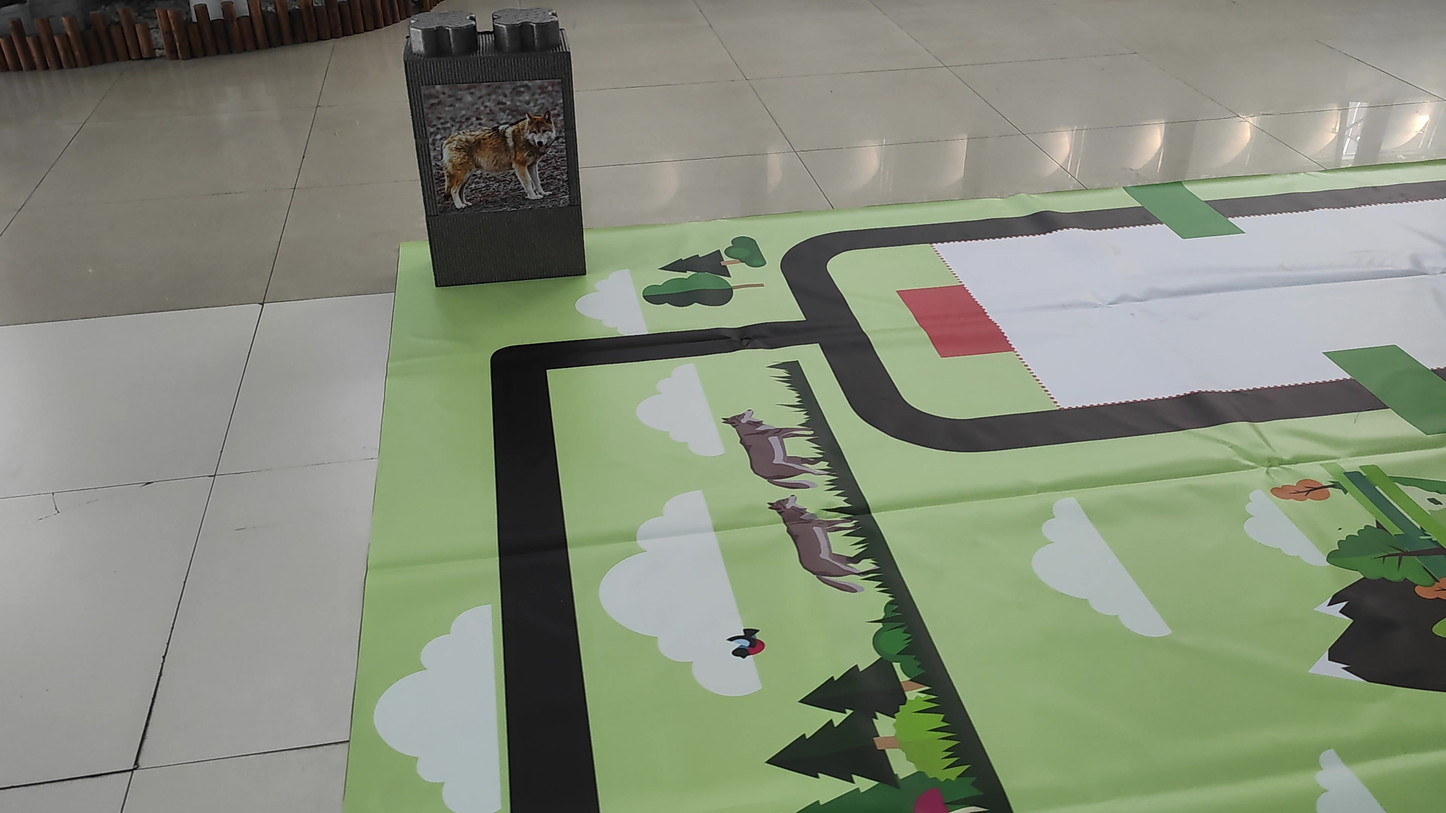wolf: (431, 98, 574, 221)
